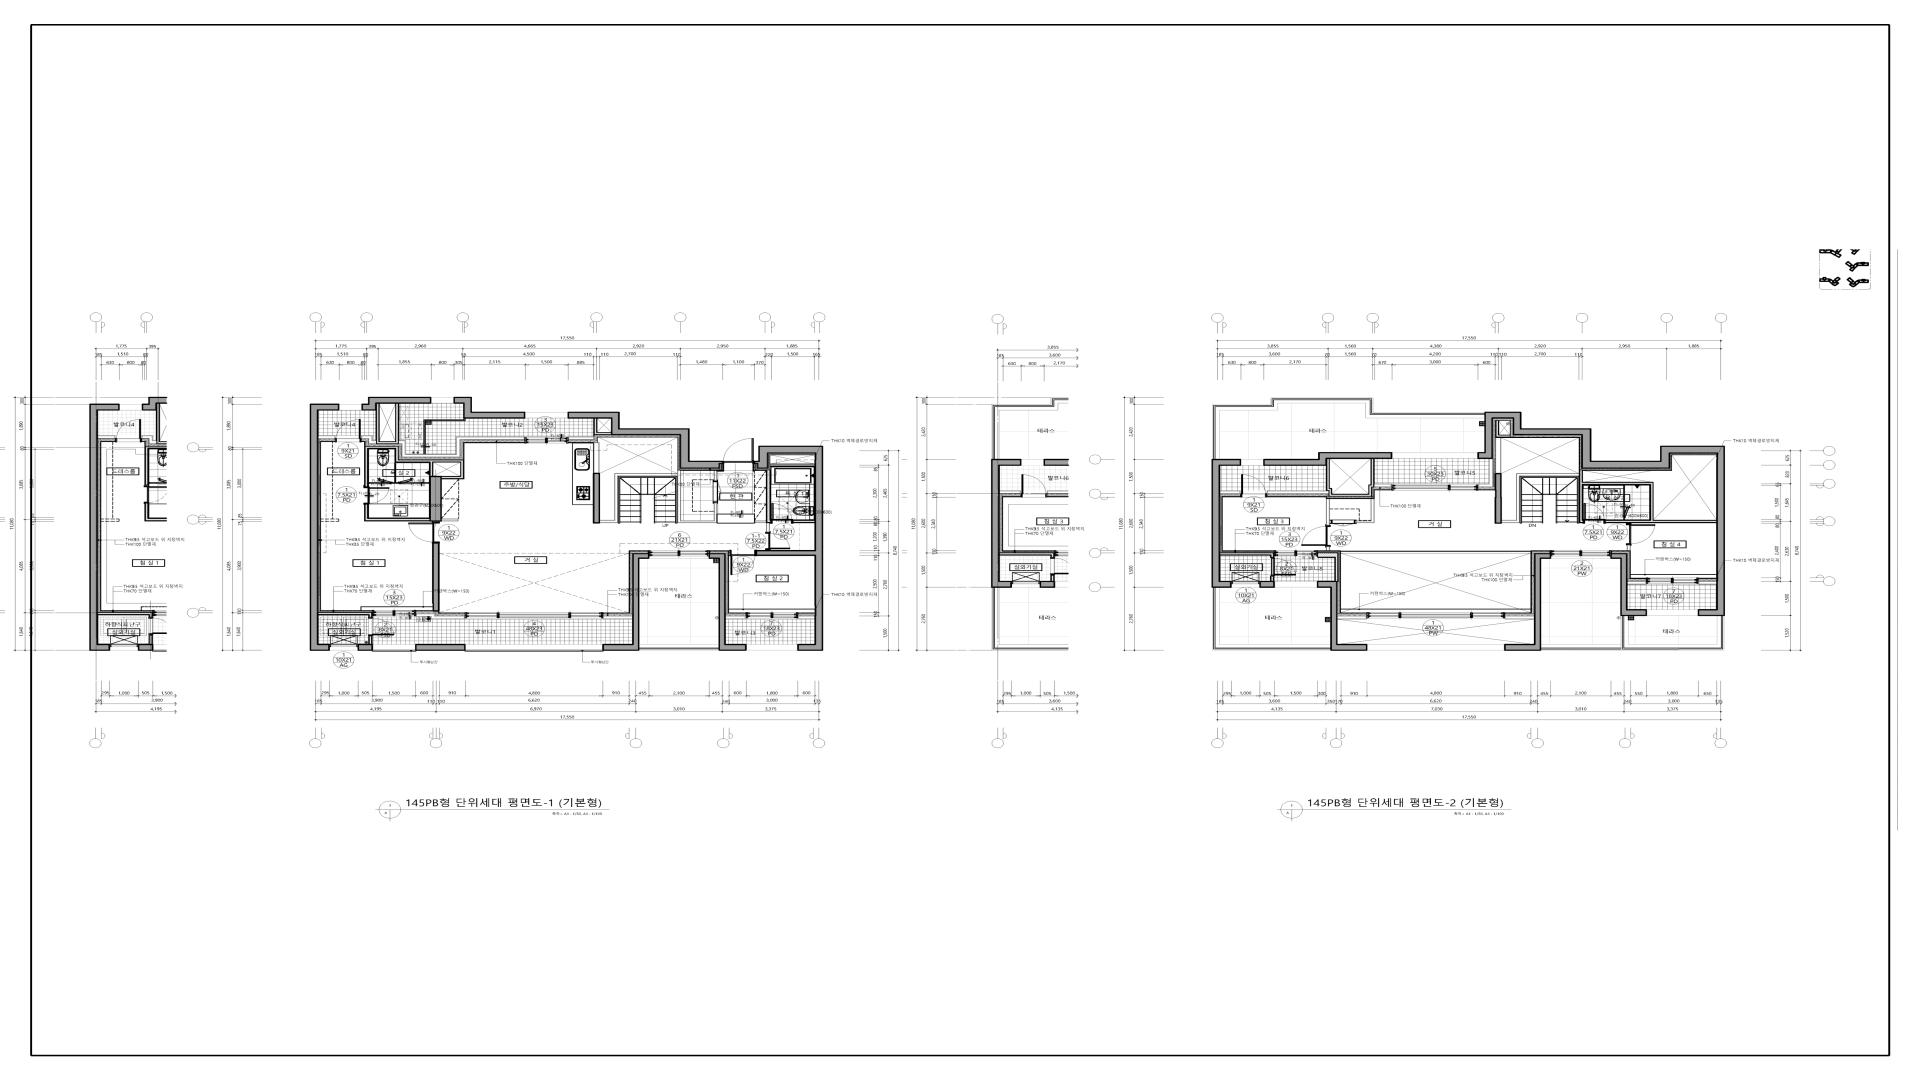door: (723, 438, 754, 472), (407, 522, 440, 543), (729, 550, 757, 575), (335, 419, 361, 443), (1302, 525, 1331, 546), (1626, 524, 1655, 545), (1241, 475, 1267, 497), (364, 487, 390, 505), (770, 502, 793, 524), (1271, 558, 1296, 576), (1584, 504, 1606, 524), (765, 533, 790, 550), (1331, 520, 1356, 526)
wall: (1477, 411, 1725, 616), (1212, 397, 1485, 459), (754, 446, 823, 651), (1502, 469, 1716, 524), (361, 404, 525, 458), (568, 411, 723, 468), (1212, 588, 1331, 650), (310, 404, 339, 651), (600, 469, 719, 524), (1542, 616, 1725, 650), (1267, 459, 1391, 497), (603, 554, 649, 651), (1505, 554, 1551, 651), (364, 446, 464, 487), (708, 553, 746, 651), (1212, 459, 1241, 588), (1317, 582, 1367, 651), (1610, 554, 1647, 616), (1263, 452, 1393, 465), (454, 397, 525, 419), (364, 505, 430, 521), (754, 469, 770, 533), (361, 397, 431, 410), (1495, 421, 1511, 473), (1317, 553, 1338, 582), (430, 476, 442, 522), (1356, 498, 1374, 524), (433, 543, 439, 612), (640, 645, 719, 650), (1478, 459, 1493, 487), (415, 644, 465, 651), (1494, 473, 1502, 524), (415, 613, 465, 620), (593, 473, 600, 524), (319, 612, 373, 617), (1220, 553, 1274, 558), (593, 419, 611, 435), (593, 442, 600, 473), (357, 644, 373, 651), (770, 464, 815, 467), (603, 616, 632, 620), (1337, 616, 1366, 620), (1505, 616, 1534, 620), (1259, 582, 1275, 588), (568, 436, 595, 440), (794, 520, 815, 524), (1220, 491, 1241, 495), (727, 616, 746, 620), (1327, 498, 1329, 525), (798, 616, 815, 620), (319, 435, 335, 439), (1627, 582, 1646, 584), (442, 518, 459, 521), (1698, 582, 1716, 584), (368, 636, 373, 644), (715, 471, 717, 481), (1270, 576, 1274, 582), (1627, 545, 1630, 550), (1327, 546, 1329, 550)
window: (465, 612, 603, 620), (1366, 612, 1505, 618), (465, 645, 603, 651), (1367, 645, 1505, 650), (1391, 484, 1478, 491), (1393, 452, 1477, 459), (1551, 550, 1610, 558), (650, 550, 708, 558), (746, 612, 798, 620), (1646, 578, 1698, 584), (1274, 550, 1317, 556), (373, 611, 415, 617), (373, 645, 415, 651), (1647, 611, 1697, 616), (525, 438, 568, 443), (1275, 582, 1317, 587), (525, 413, 567, 418), (330, 644, 357, 650), (1241, 459, 1263, 465), (431, 397, 454, 404), (1232, 582, 1259, 587), (339, 405, 361, 410)
